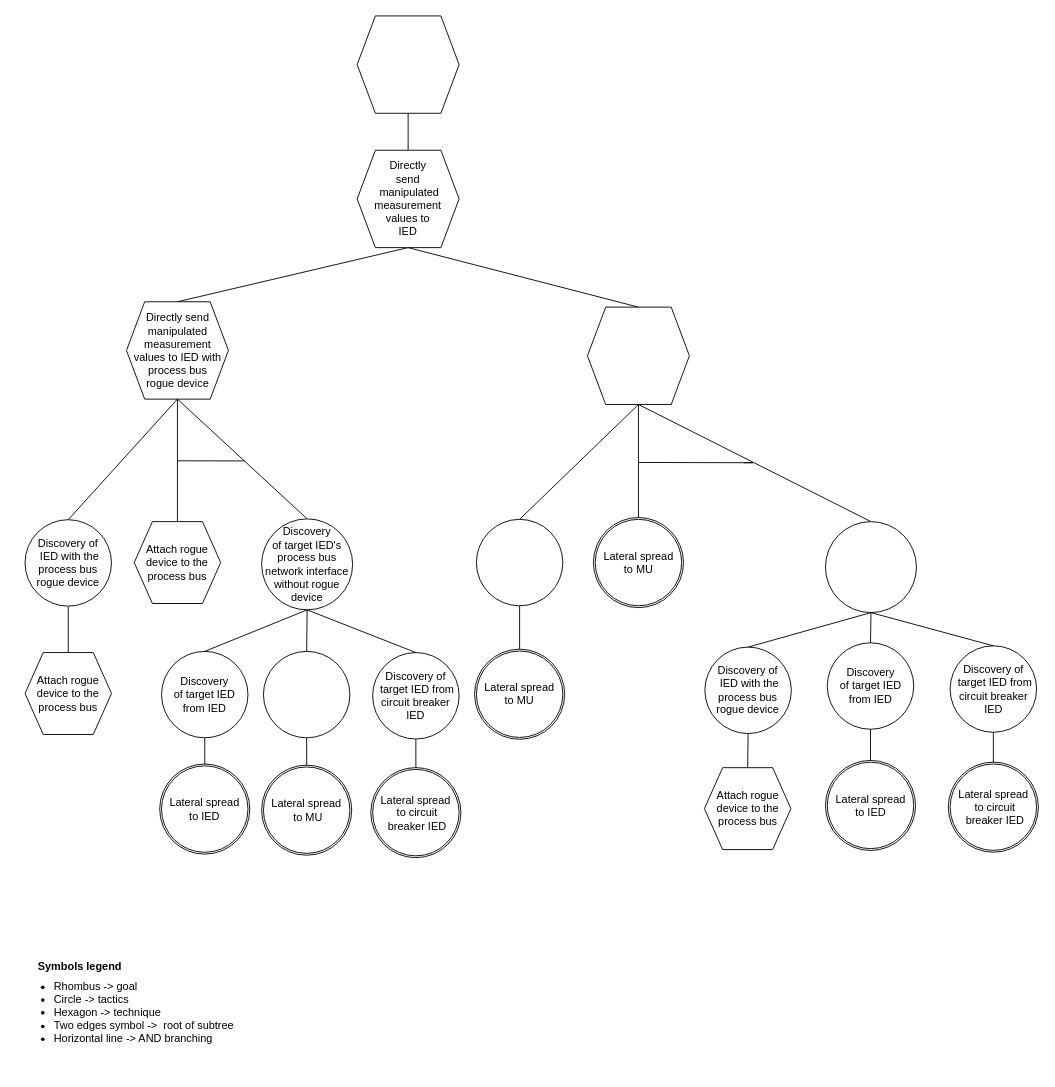
The diagram is 1055 pixels wide and 1087 high, and some of its shapes have lost their labels. Here are the shapes that lost their labels. From the top down, the centre of each, then its label:
At point 407,64: "Manipulate measurement values".
At point 638,355: "Directly send manipulated measurement values to IED from MU".
At point 519,562: "Discovery of IED from MU".
At point 870,567: "Discovery of target IED's process bus network interface not from MU".
At point 306,694: "Discovery of target IED from MU".
